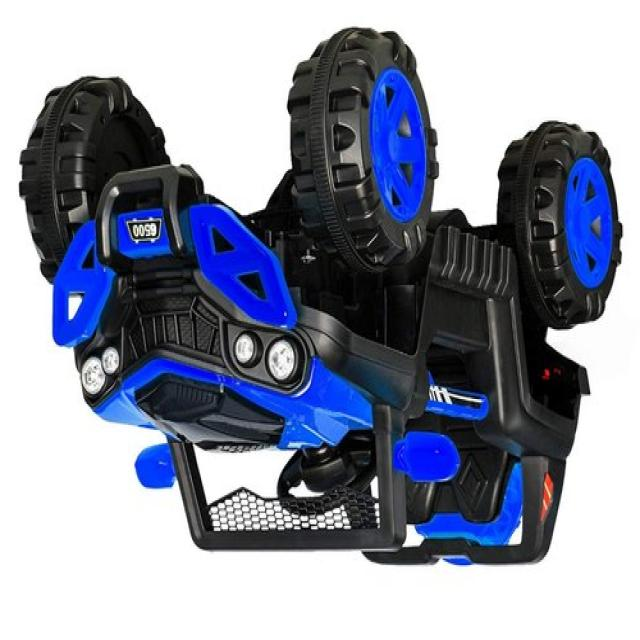Car: (18, 28, 625, 570)
